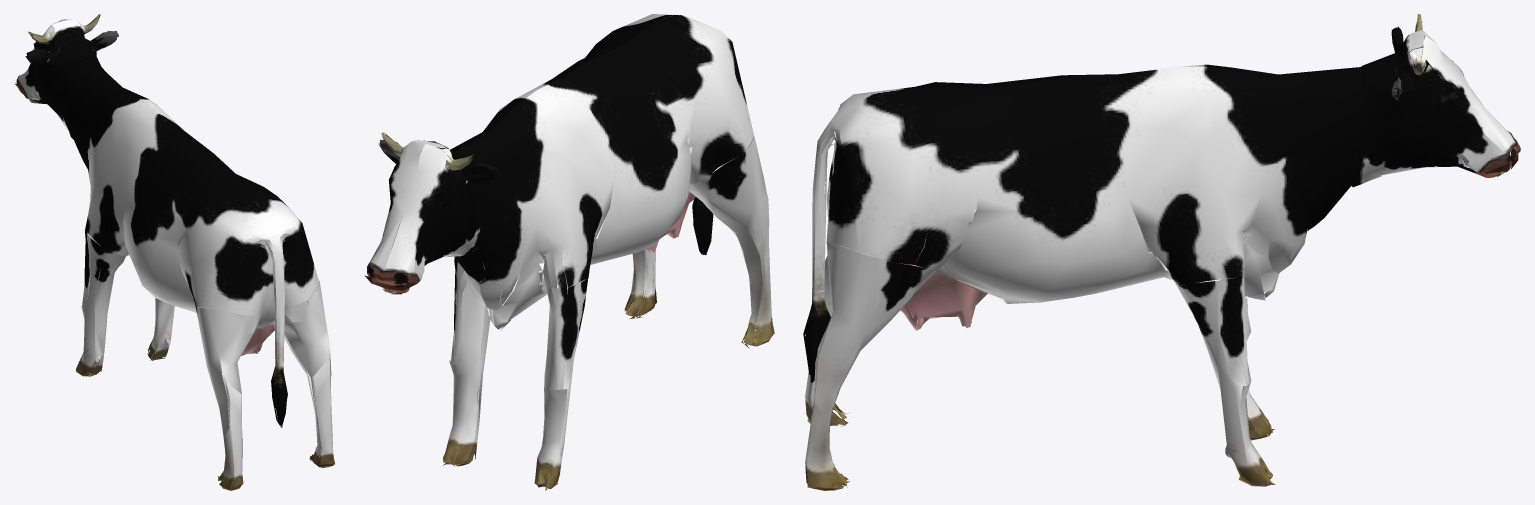
File: cow_holstein_hi.glb
The picture shows the model from 3 angles, left to right: view 1: azimuth 30°, elevation 25°; view 2: azimuth 150°, elevation 25°; view 3: azimuth 270°, elevation 25°; orthographic projection. The views are drawn at different scales.
Visible parts, largest first — view 1: cow_holstein_hi; view 2: cow_holstein_hi; view 3: cow_holstein_hi.
Boxes of the visible parts, bbox=[...] form: cow_holstein_hi: bbox=[15, 14, 335, 490]; cow_holstein_hi: bbox=[364, 14, 774, 490]; cow_holstein_hi: bbox=[803, 14, 1520, 490].
Size of the model in its own units: 0.6152 by 1.51 by 2.31.
Materials: 1 (1 with a texture image).
